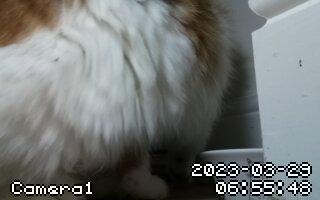clara: (7, 10, 239, 177)
